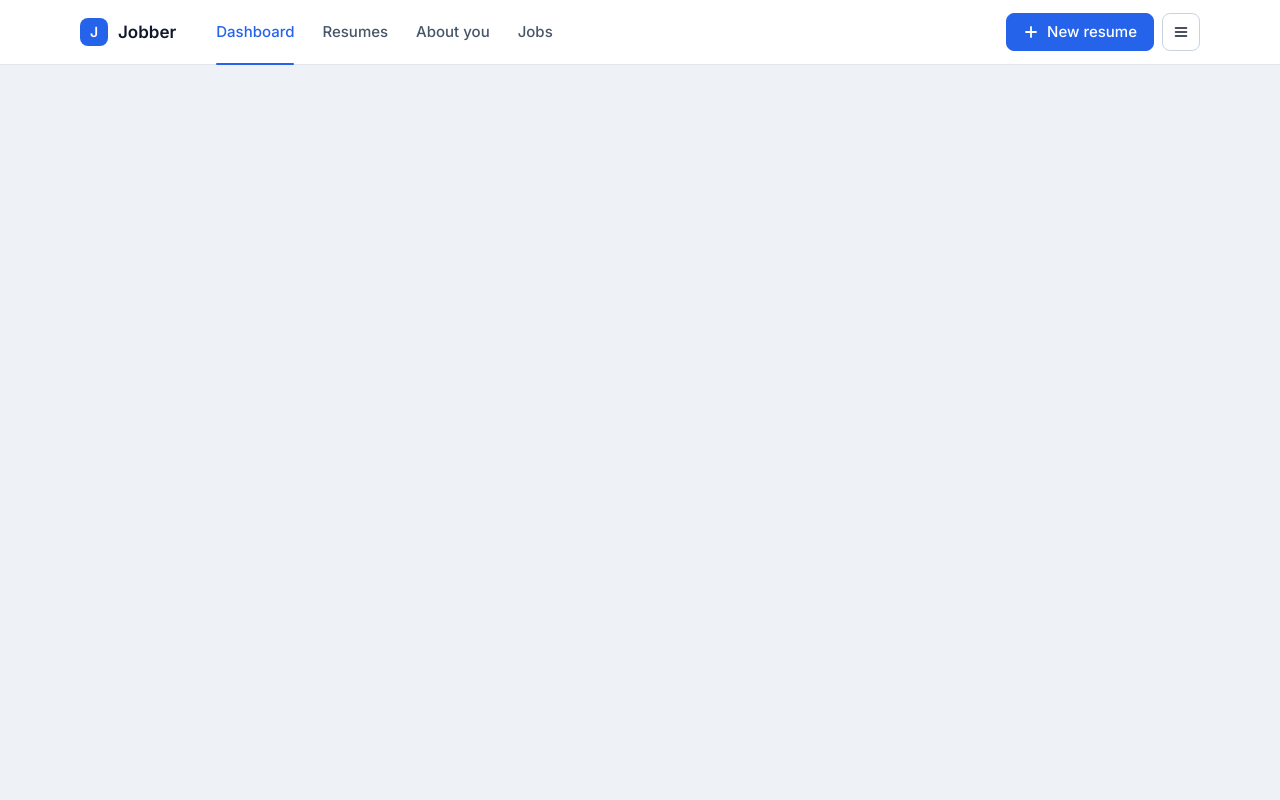
it: header and menu slider › holds everything else: all pages with counts, the daily search and settings
What coordinates should you click on to do the following:
click the button named "Open menu"
I would click on:
 (1181, 32)
Its box is [1162,13,1200,51].
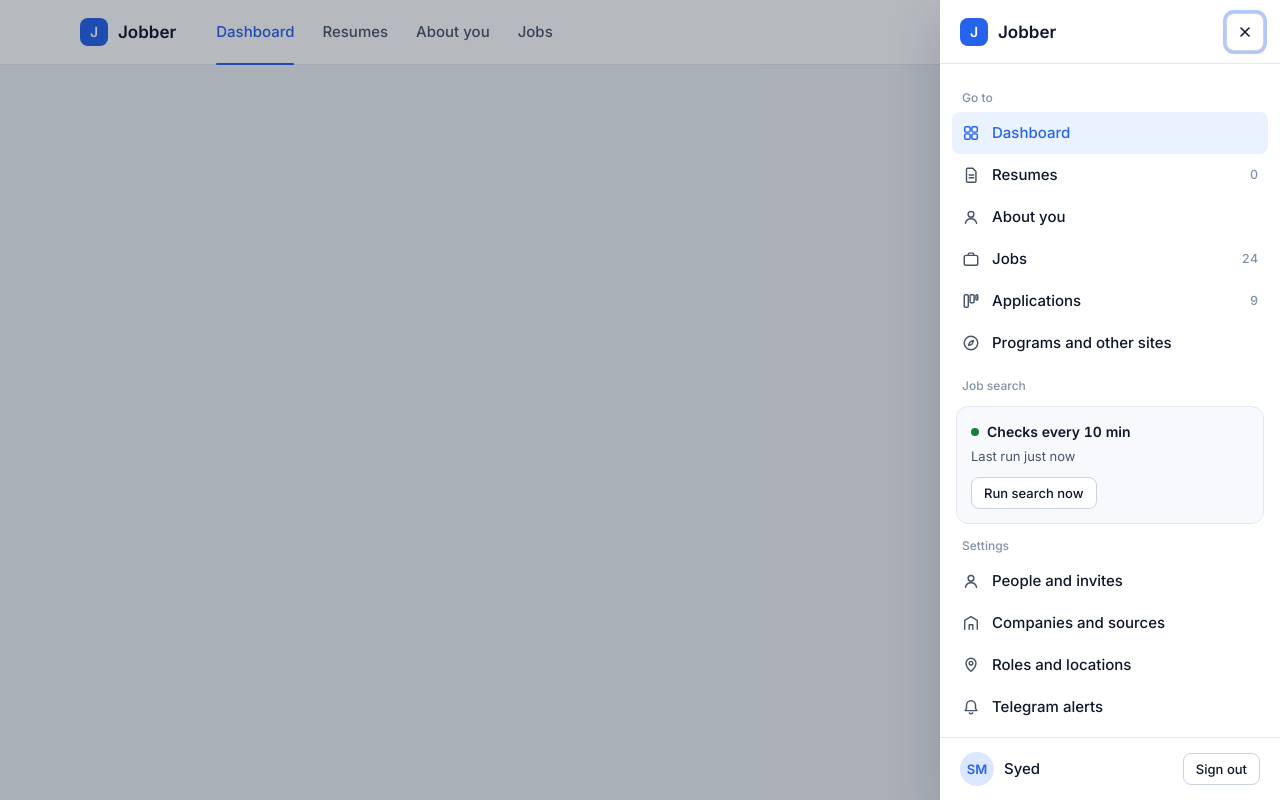
Expected: the link "Dashboard" is shown, [952,112,1268,154]
Expected: the button "Run search now" is shown, [971,477,1096,509]
Expected: the button "Sign out" is shown, [1183,753,1260,785]
